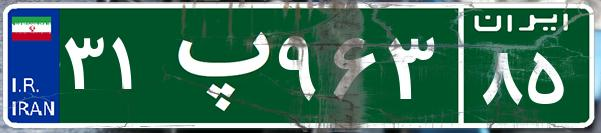1: (110, 28, 158, 105)
3: (385, 28, 445, 110), (57, 26, 110, 107)
5: (525, 38, 570, 115)
6: (330, 28, 385, 110)
8: (475, 38, 525, 113)
9: (273, 28, 330, 110)
پ: (158, 15, 273, 115)
